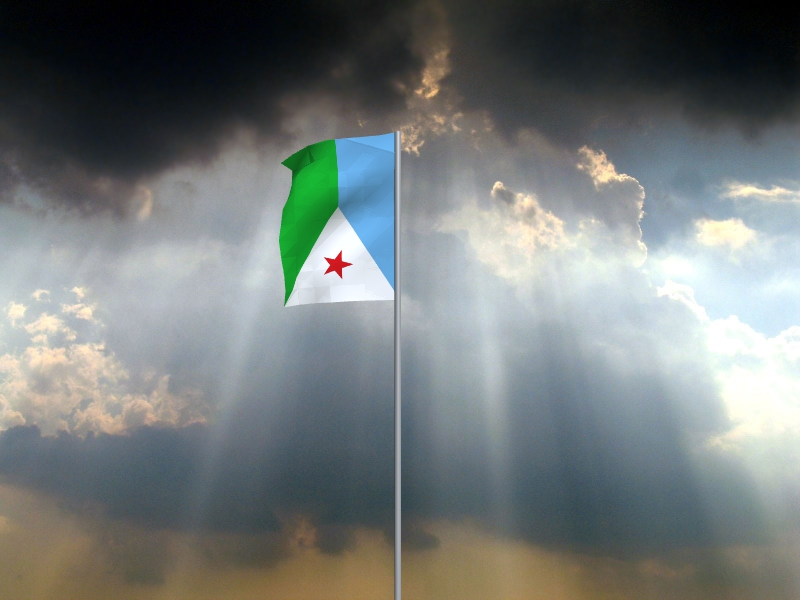dj: (278, 134, 395, 309)
